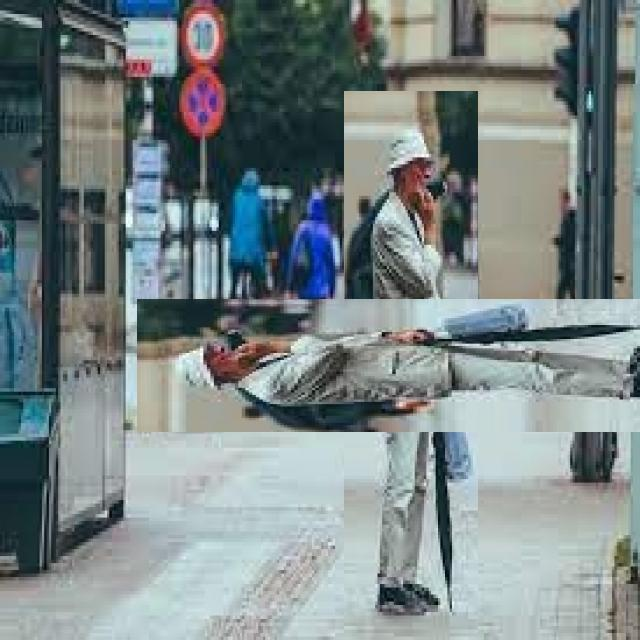NotFall: (187, 185, 640, 466)
